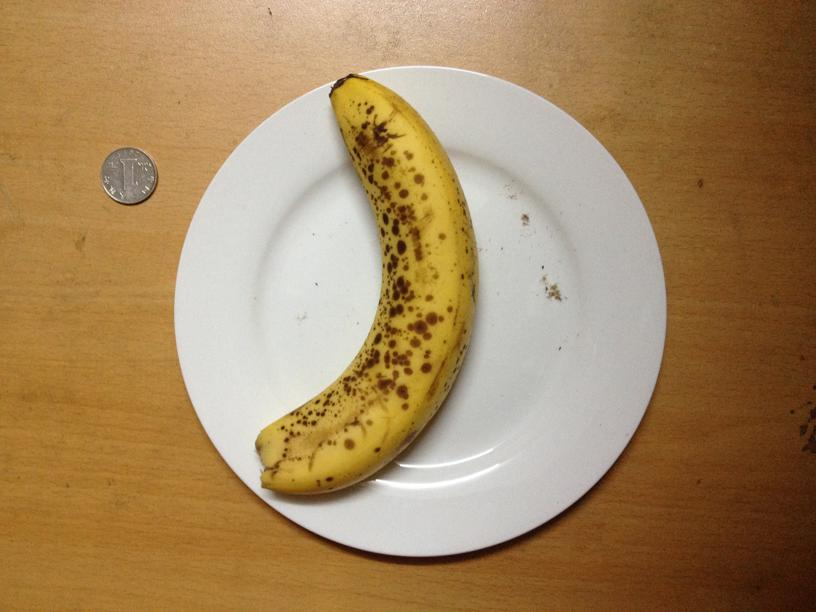banana: (254, 72, 477, 499)
coin: (99, 144, 159, 204)
